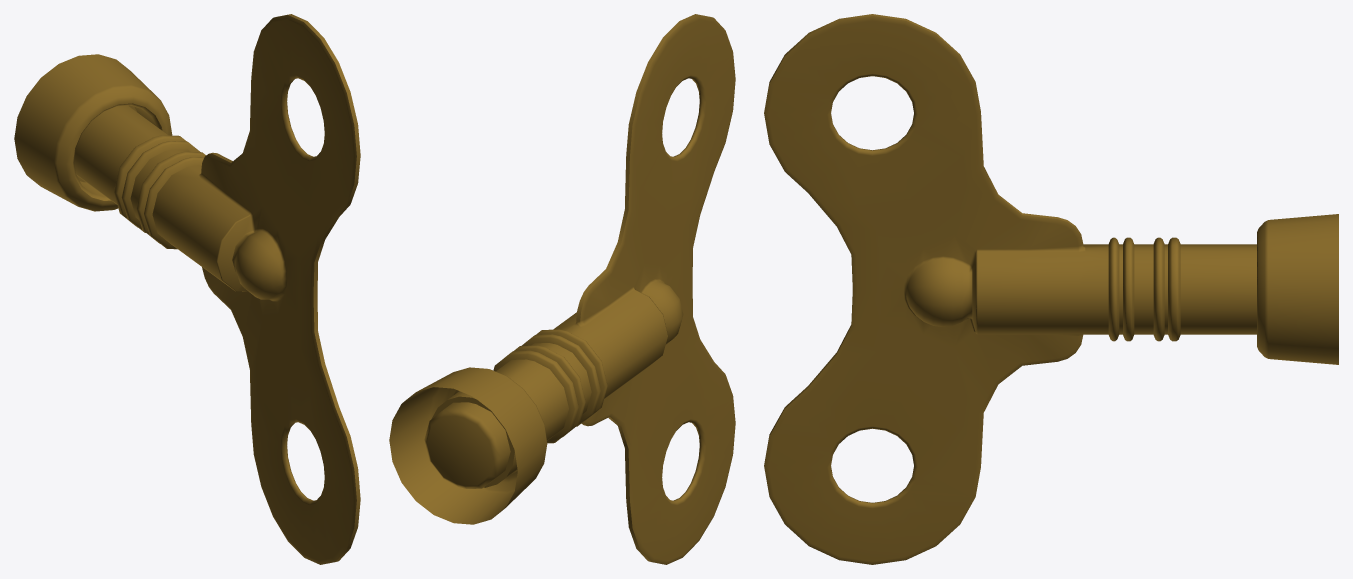
Rendered from scp914_device_key.fbx.
The picture shows the model from 3 angles, left to right: view 1: azimuth 30°, elevation 25°; view 2: azimuth 150°, elevation 25°; view 3: azimuth 270°, elevation 25°; orthographic projection. The views are drawn at different scales.
Visible parts, largest first — view 1: scp914_windkey_new, scp914_windup_new; view 2: scp914_windkey_new, scp914_windup_new; view 3: scp914_windkey_new, scp914_windup_new.
Part boxes in pixels (bbox=[...]): scp914_windkey_new: bbox=[74, 14, 360, 564]; scp914_windup_new: bbox=[14, 54, 172, 211]; scp914_windkey_new: bbox=[424, 14, 735, 564]; scp914_windup_new: bbox=[389, 367, 547, 524]; scp914_windkey_new: bbox=[764, 14, 1256, 564]; scp914_windup_new: bbox=[1257, 214, 1338, 364].
Bounding box in the file's own units: 0.1709 × 0.6804 × 0.6453.
